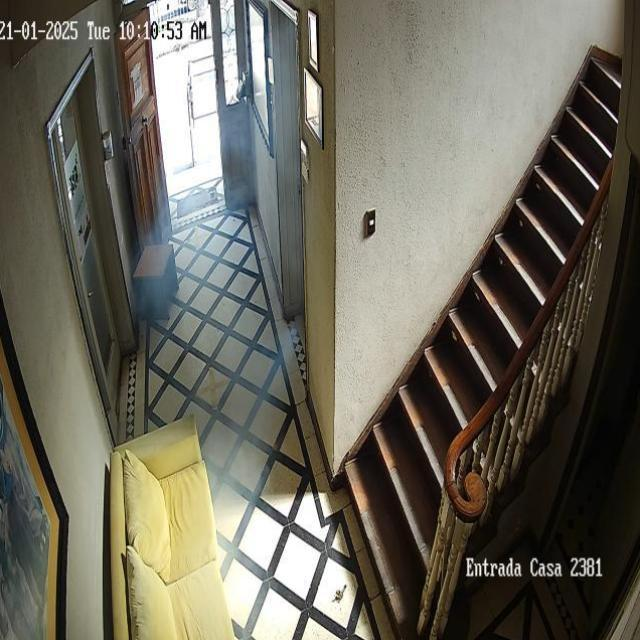fire: (130, 9, 302, 616)
